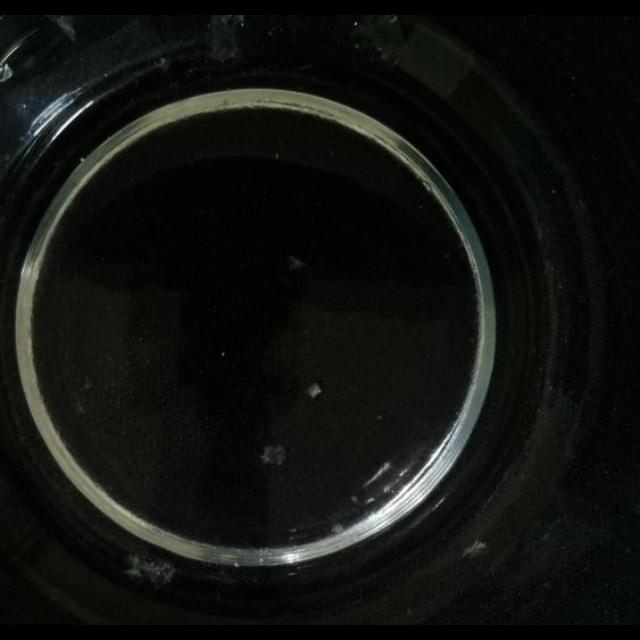Fibre: (362, 458, 418, 507), (260, 442, 286, 464), (288, 255, 306, 271)
microbeads: (124, 553, 174, 587), (462, 538, 488, 558), (124, 563, 144, 579), (307, 382, 323, 398), (330, 523, 344, 535)
